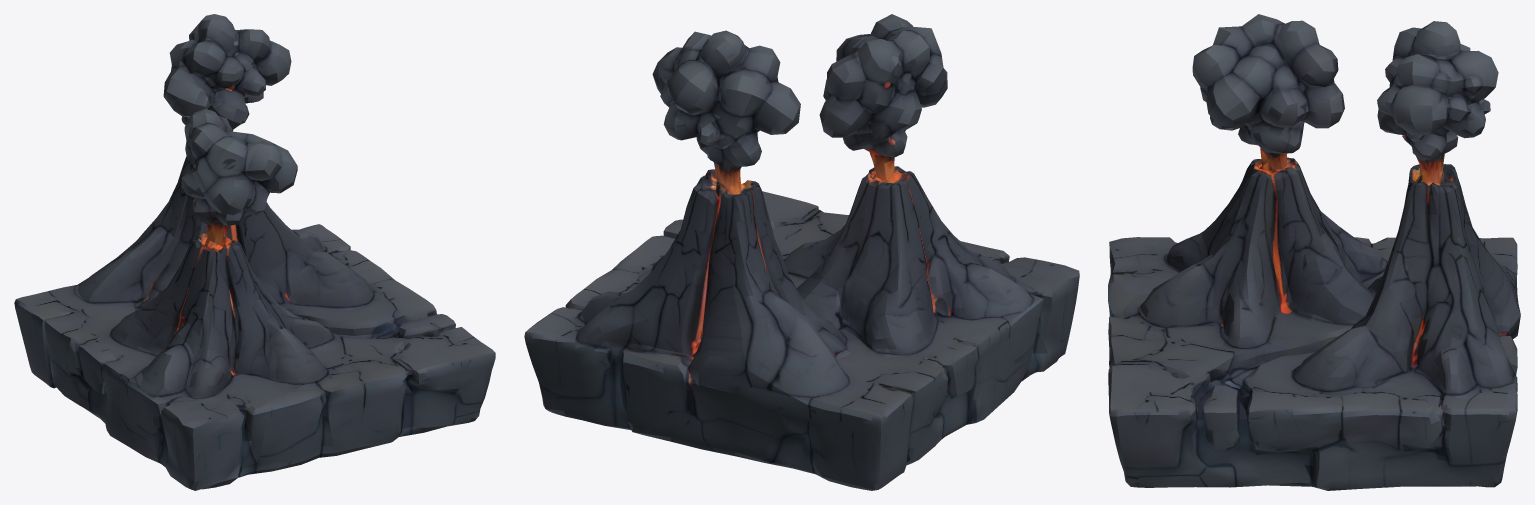
Rendered from Venesum_high.fbx.
The picture shows the model from 3 angles, left to right: view 1: azimuth 30°, elevation 25°; view 2: azimuth 150°, elevation 25°; view 3: azimuth 270°, elevation 25°; orthographic projection. The views are drawn at different scales.
Visible parts, largest first — view 1: node_ea70cf13_595c_4286_9ce1_6a3ae0d5767c_mesh0; view 2: node_ea70cf13_595c_4286_9ce1_6a3ae0d5767c_mesh0; view 3: node_ea70cf13_595c_4286_9ce1_6a3ae0d5767c_mesh0.
Part boxes in pixels (<box>): node_ea70cf13_595c_4286_9ce1_6a3ae0d5767c_mesh0: <box>14,14,495,490</box>; node_ea70cf13_595c_4286_9ce1_6a3ae0d5767c_mesh0: <box>524,14,1079,490</box>; node_ea70cf13_595c_4286_9ce1_6a3ae0d5767c_mesh0: <box>1108,14,1520,490</box>.
Bounding box in the file's own units: 95.51 × 99.89 × 95.15.
Materials: 1 (1 with a texture image).
